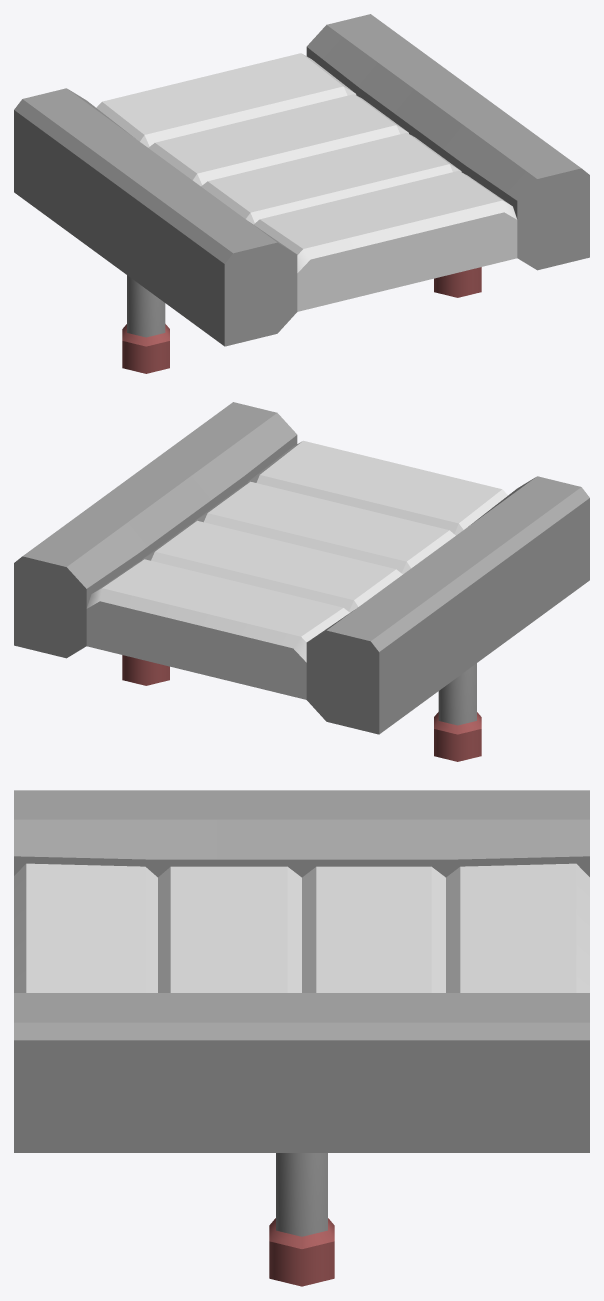
Rendered from SM_ConveyorBelt_SImple.fbx.
The picture shows the model from 3 angles, top to bottom: view 1: azimuth 30°, elevation 25°; view 2: azimuth 150°, elevation 25°; view 3: azimuth 270°, elevation 25°; orthographic projection. The views are drawn at different scales.
Parts seen in each view (by area): view 1: Static, Moving; view 2: Static, Moving; view 3: Static, Moving.
Part boxes in pixels (<box>): Static: <box>14,14,589,373</box>; Moving: <box>96,53,517,311</box>; Static: <box>14,402,589,761</box>; Moving: <box>86,440,507,699</box>; Static: <box>14,790,589,1286</box>; Moving: <box>14,863,589,992</box>.
Size of the model in its own units: 100 by 49.89 by 100.
